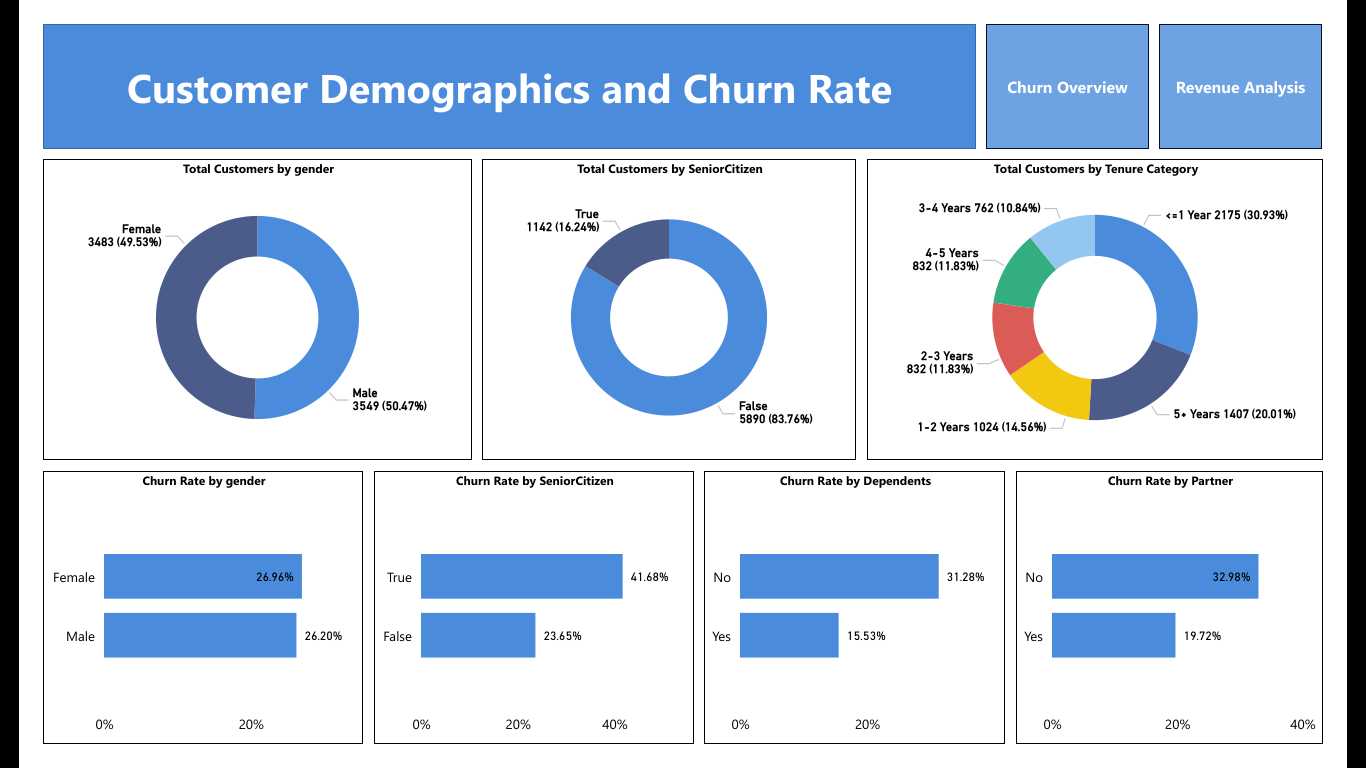

What the dashboard file says about the page in this screenshot:
{"tool":"powerbi","page":{"name":"Customer Segmentation","canvas":[1280,720],"ordinal":1},"visuals":[{"type":"clusteredBarChart","fields":{"Category":["ChurnDataTable.SeniorCitizen"],"Y":["MeasuresTable.Churn Rate"]},"box":[330.6,446.7,320.3,273.3],"z":0},{"type":"clusteredBarChart","fields":{"Category":["ChurnDataTable.gender"],"Y":["MeasuresTable.Churn Rate"]},"box":[0,446.7,320.3,273.3],"z":1000},{"type":"clusteredBarChart","fields":{"Category":["ChurnDataTable.Dependents"],"Y":["MeasuresTable.Churn Rate"]},"box":[661.2,446.7,301.2,273.3],"z":2000},{"type":"clusteredBarChart","fields":{"Category":["ChurnDataTable.Partner"],"Y":["MeasuresTable.Churn Rate"]},"box":[972.7,446.7,307.1,273.3],"z":3000},{"type":"donutChart","fields":{"Y":["MeasuresTable.Total Customers"],"Category":["ChurnDataTable.gender"]},"box":[0,135.2,429.1,301.2],"z":4000},{"type":"donutChart","fields":{"Y":["MeasuresTable.Total Customers"],"Category":["ChurnDataTable.SeniorCitizen"]},"box":[439.3,135.2,373.2,301.2],"z":5000},{"type":"donutChart","fields":{"Y":["MeasuresTable.Total Customers"],"Category":["ChurnDataTable.Tenure Category"]},"box":[824.3,135.2,455.5,301.2],"z":6000},{"type":"shape","box":[0,0,933.1,124.9],"z":7000},{"type":"pageNavigator","box":[943.3,0,336.5,124.9],"z":8000}]}

Visuals, with their boxes in screenshot pixels (x1, y1, x2, y2), scaled from the page's 1280x720 canvas onto the 1366x768 screenshot:
clusteredBarChart - ChurnDataTable.SeniorCitizen x MeasuresTable.Churn Rate: (left=353, top=476, right=695, bottom=767)
clusteredBarChart - ChurnDataTable.gender x MeasuresTable.Churn Rate: (left=0, top=476, right=342, bottom=767)
clusteredBarChart - ChurnDataTable.Dependents x MeasuresTable.Churn Rate: (left=706, top=476, right=1027, bottom=767)
clusteredBarChart - ChurnDataTable.Partner x MeasuresTable.Churn Rate: (left=1038, top=476, right=1365, bottom=767)
donutChart - MeasuresTable.Total Customers x ChurnDataTable.gender: (left=0, top=144, right=458, bottom=465)
donutChart - MeasuresTable.Total Customers x ChurnDataTable.SeniorCitizen: (left=469, top=144, right=867, bottom=465)
donutChart - MeasuresTable.Total Customers x ChurnDataTable.Tenure Category: (left=880, top=144, right=1365, bottom=465)
shape: (left=0, top=0, right=996, bottom=133)
pageNavigator: (left=1007, top=0, right=1365, bottom=133)
